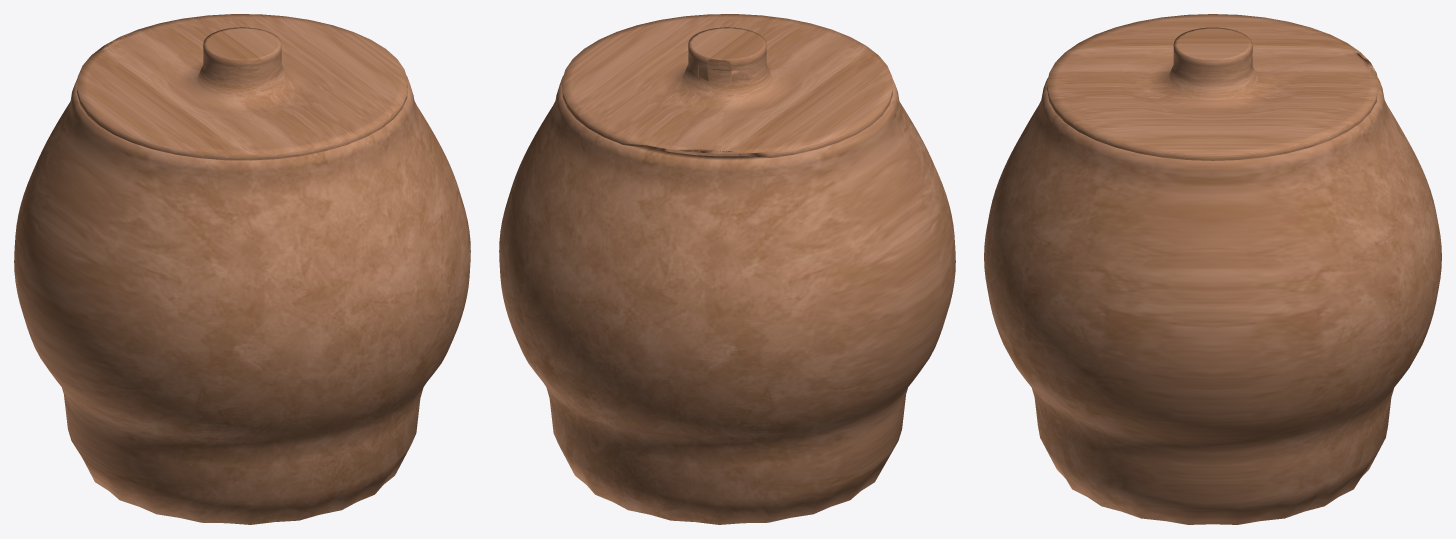
Rendered from pot 3.fbx.
The picture shows the model from 3 angles, left to right: view 1: azimuth 30°, elevation 25°; view 2: azimuth 150°, elevation 25°; view 3: azimuth 270°, elevation 25°; orthographic projection.
Parts seen in each view (by area): view 1: pCylinder1, pCylinder2; view 2: pCylinder1, pCylinder2; view 3: pCylinder1, pCylinder2.
Boxes of the visible parts, <box> form: pCylinder1: <box>14,76,470,524</box>; pCylinder2: <box>77,14,407,160</box>; pCylinder1: <box>499,76,955,524</box>; pCylinder2: <box>562,14,892,158</box>; pCylinder1: <box>984,77,1441,524</box>; pCylinder2: <box>1047,14,1378,160</box>.
Size of the model in its own units: 6.09 by 6.25 by 6.09.
